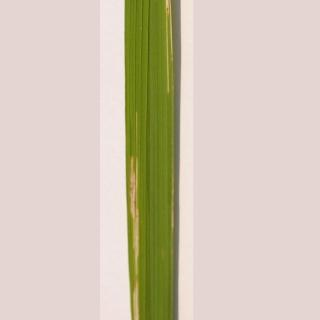Hawar-Daun: (123, 154, 153, 316), (167, 169, 189, 312), (157, 0, 184, 88)
